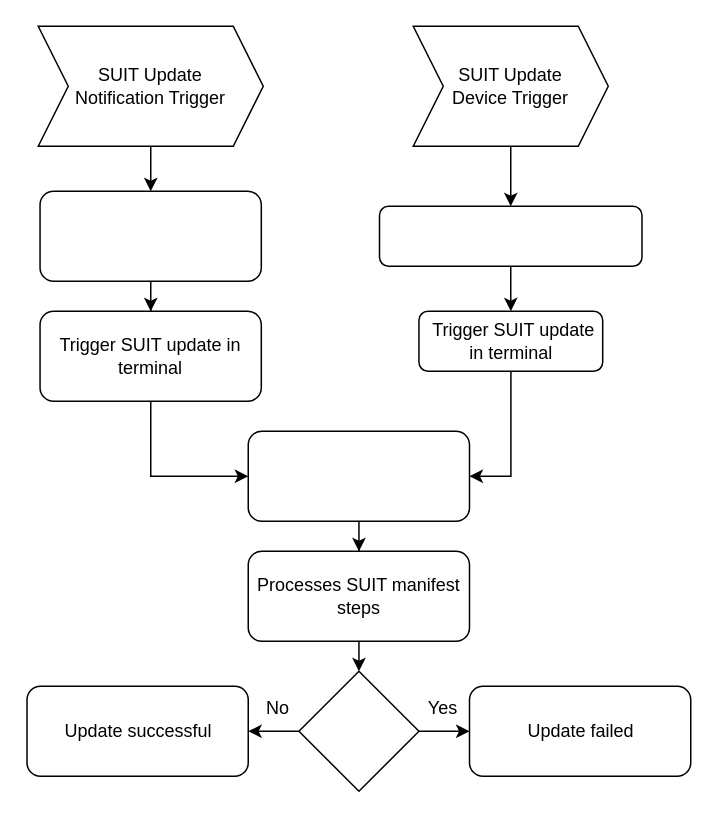
Image size: 717x818. Some labels were removed from this diagram. The shapes that lost their labels are listed below. From the top down, each one's centre as x and y in pixels, then its label:
At point (150, 235): "Gain access to FW Mgmt. terminal".
At point (510, 235): "Gain access to device terminal".
At point (358, 475): "Devices fetches and validates manifest".
At point (358, 730): "Any failed Steps?".
